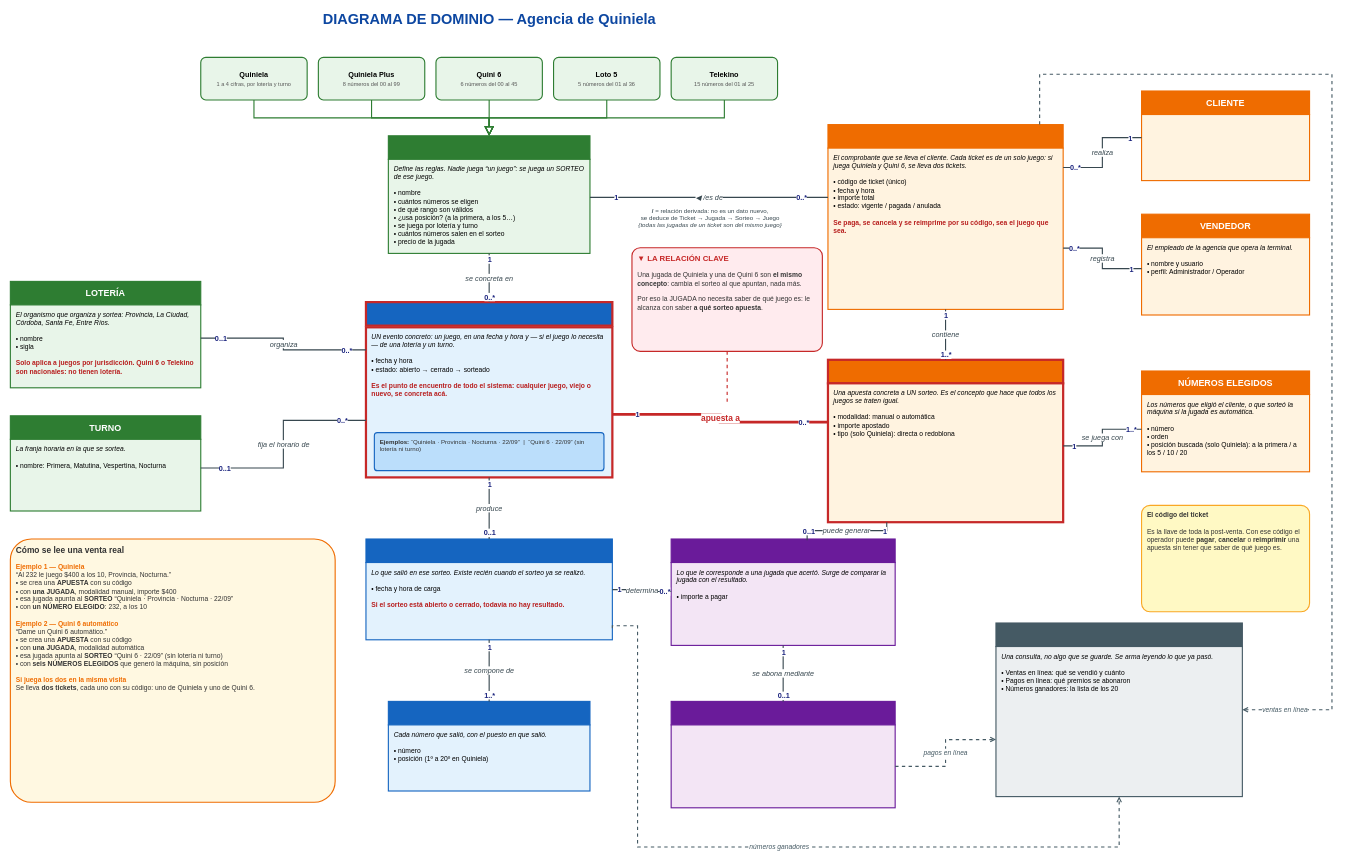
The diagram is 1346 pixels wide and 861 high, and some of its shapes have lost their labels. Each missing label, with the centre of its shape:
APUESTA (TICKET): the point at 945,136
COBRO: the point at 782,713
JUEGO: the point at 489,147
JUGADA: the point at 945,371
NÚMERO GANADOR: the point at 489,713
PREMIO: the point at 782,550
Quien apuesta. • no se registran sus datos: the point at 1225,147
REPORTE: the point at 1119,634
RESULTADO DEL SORTEO: the point at 489,550
SORTEO: the point at 489,313
• fecha y hora • importe pagado • empleado que lo abonó: the point at 782,766
